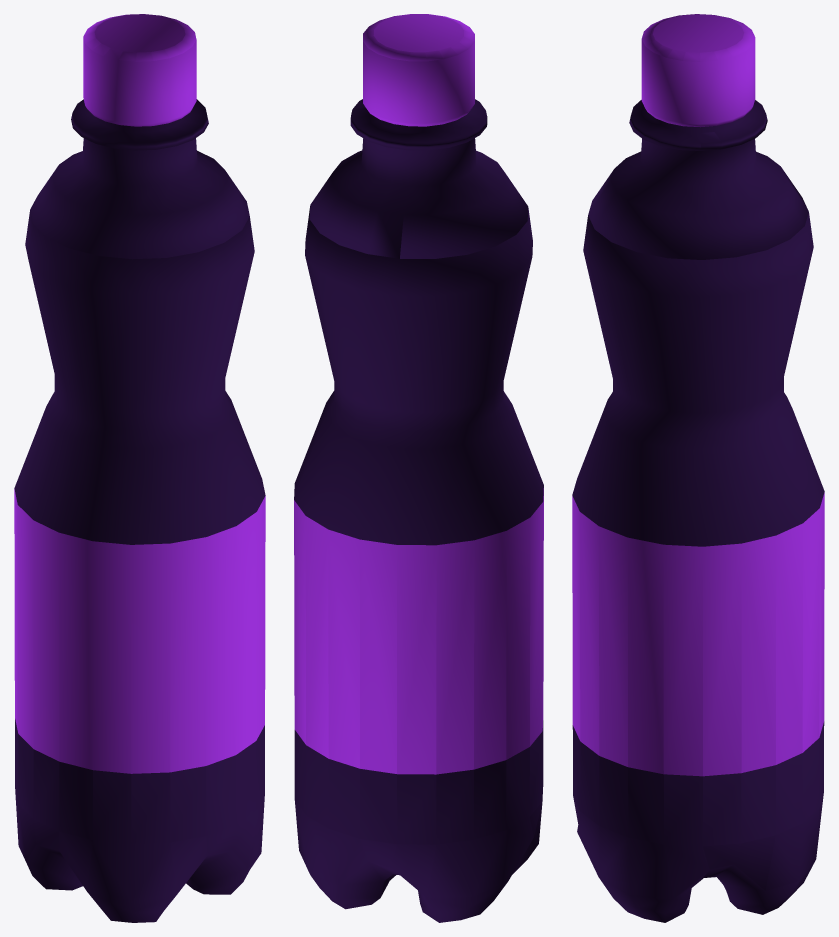
File: Grape Soda.fbx
3 renders of one model, left to right at view 1: azimuth 30°, elevation 25°; view 2: azimuth 150°, elevation 25°; view 3: azimuth 270°, elevation 25°, orthographic.
Visible parts, largest first — view 1: Node 0; view 2: Node 0; view 3: Node 0.
Boxes of the visible parts, x1,y1,x2,y2 form: Node 0: [14, 14, 265, 922]; Node 0: [294, 14, 543, 922]; Node 0: [572, 14, 824, 922].
Size of the model in its own units: 0.0455 by 0.1698 by 0.0456.
